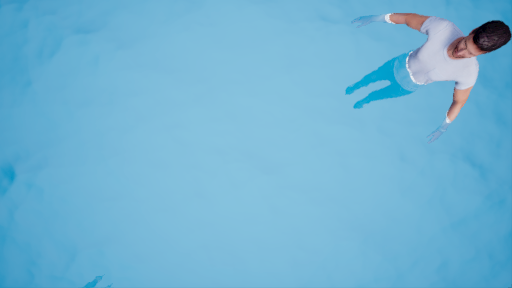person: (345, 6, 507, 139)
